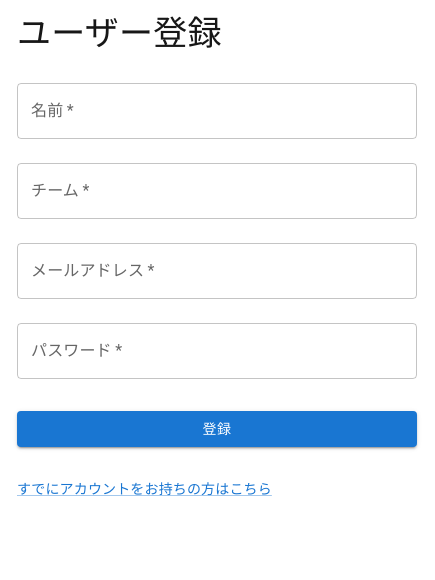
Test: RegisterPage › 登録フォーム › 全項目入力し登録ボタンを押すとfetchが呼ばれ、メッセージが表示される
The width and height of the screenshot is (435, 580).
In the field labelled "名前 *": {"x": 217, "y": 111} [17,83,417,139], type "テストユーザー"
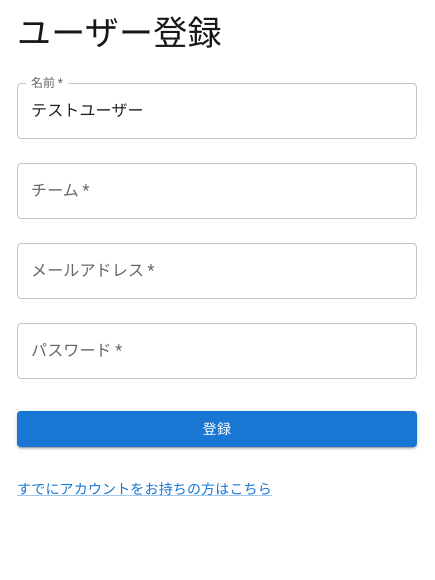
In the field labelled "チーム *": {"x": 217, "y": 191} [17,163,417,219], type "開発"
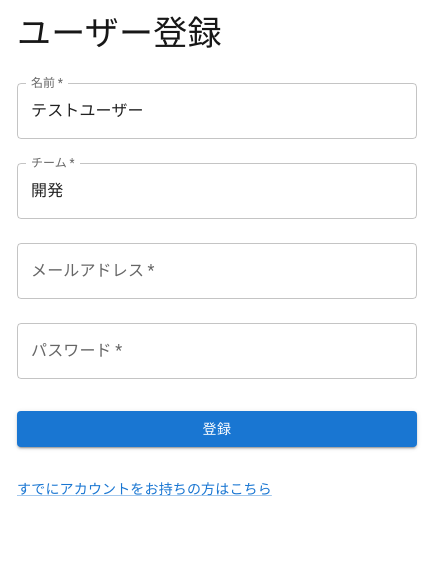
In the field labelled "メールアドレス *": {"x": 217, "y": 271} [17,243,417,299], type "test@example.com"
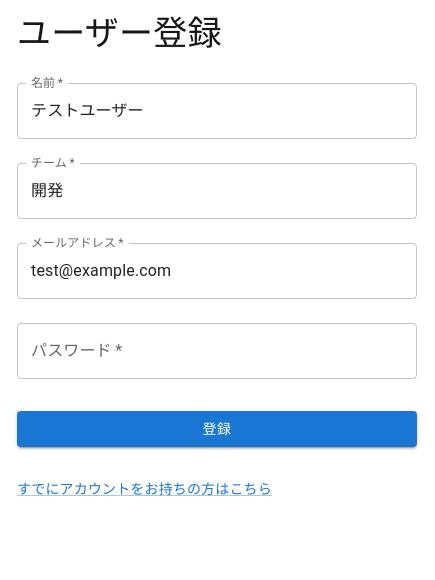
In the password field labelled "パスワード *": {"x": 217, "y": 351} [17,323,417,379], type "password123"
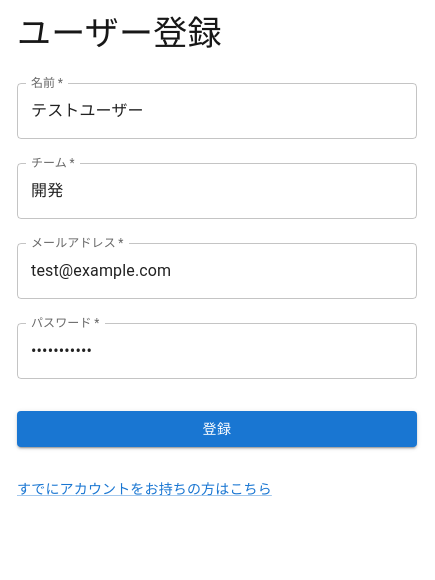
Click the button "登録": {"x": 217, "y": 429} [17,411,417,447]
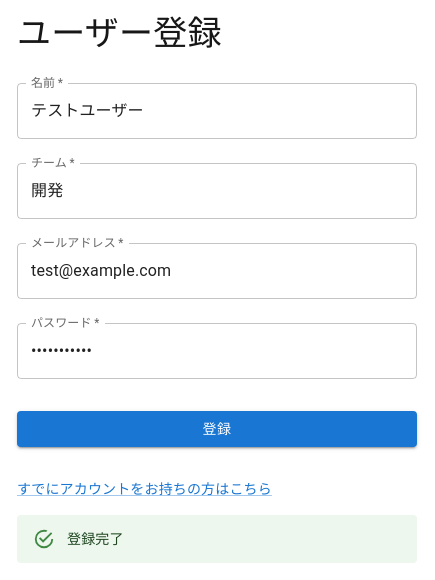
Expected: the text "登録完了" is shown, [67,531,124,547]
